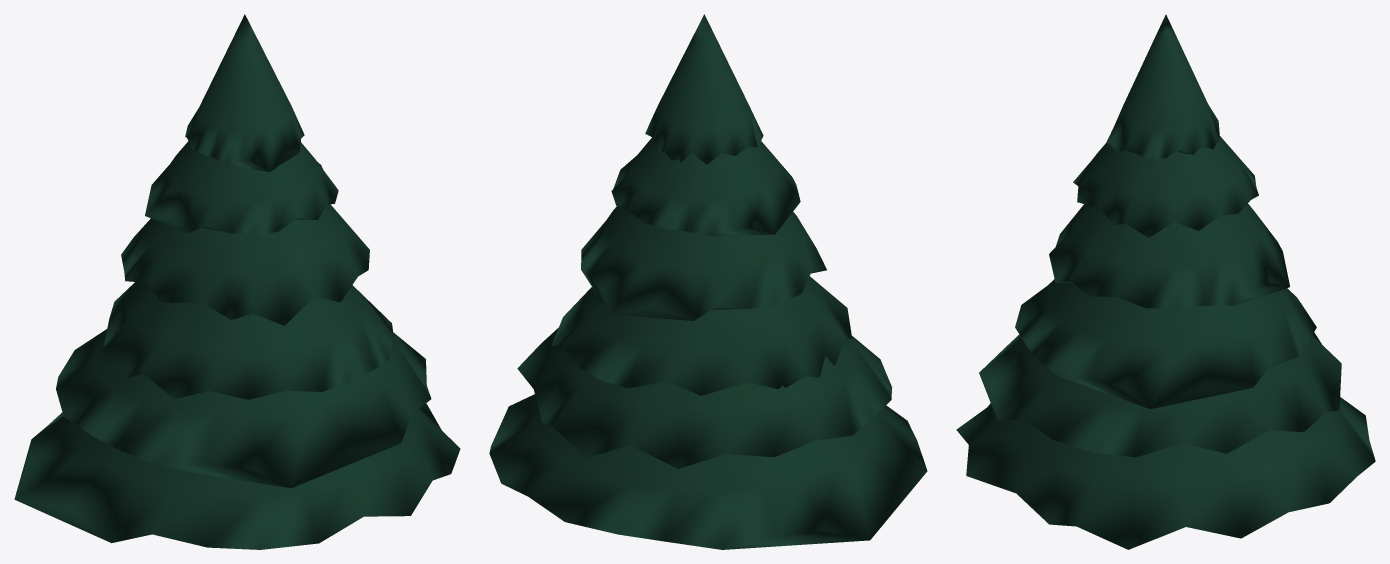
File: ChristmasTree.obj
3 renders of one model, left to right at view 1: azimuth 30°, elevation 25°; view 2: azimuth 150°, elevation 25°; view 3: azimuth 270°, elevation 25°, orthographic. The views are drawn at different scales.
Visible parts, largest first — view 1: Cone006, Cone005, Cone004, Cone003, Cone002, Cone001; view 2: Cone006, Cone005, Cone004, Cone003, Cone002, Cone001; view 3: Cone006, Cone004, Cone005, Cone003, Cone002, Cone001.
Part boxes in pixels (x1=…): Cone006: x1=14, y1=403, x2=460, y2=549; Cone005: x1=56, y1=329, x2=431, y2=488; Cone004: x1=102, y1=282, x2=393, y2=399; Cone003: x1=121, y1=204, x2=369, y2=325; Cone002: x1=145, y1=141, x2=338, y2=235; Cone001: x1=185, y1=14, x2=304, y2=171; Cone006: x1=489, y1=394, x2=927, y2=549; Cone005: x1=517, y1=328, x2=892, y2=468; Cone004: x1=551, y1=276, x2=851, y2=395; Cone003: x1=581, y1=206, x2=826, y2=320; Cone002: x1=611, y1=137, x2=800, y2=236; Cone001: x1=645, y1=14, x2=763, y2=164; Cone006: x1=956, y1=397, x2=1375, y2=549; Cone004: x1=1015, y1=279, x2=1316, y2=409; Cone005: x1=979, y1=332, x2=1341, y2=457; Cone003: x1=1049, y1=203, x2=1289, y2=308; Cone002: x1=1073, y1=136, x2=1258, y2=237; Cone001: x1=1106, y1=14, x2=1219, y2=159.
Size of the model in its own units: 24.05 by 29.46 by 23.19.
